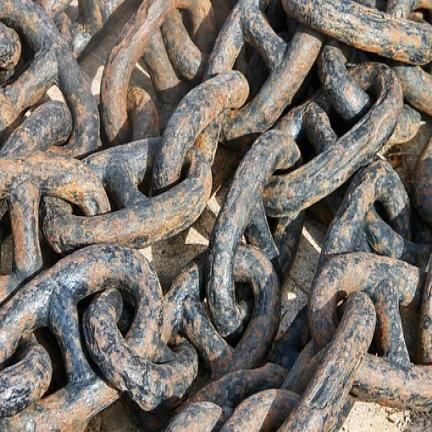karat: (0, 0, 431, 250)
